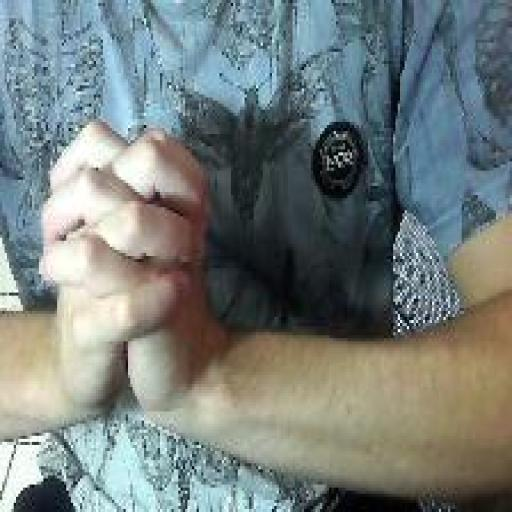Mi -snake-: (35, 114, 216, 438)
